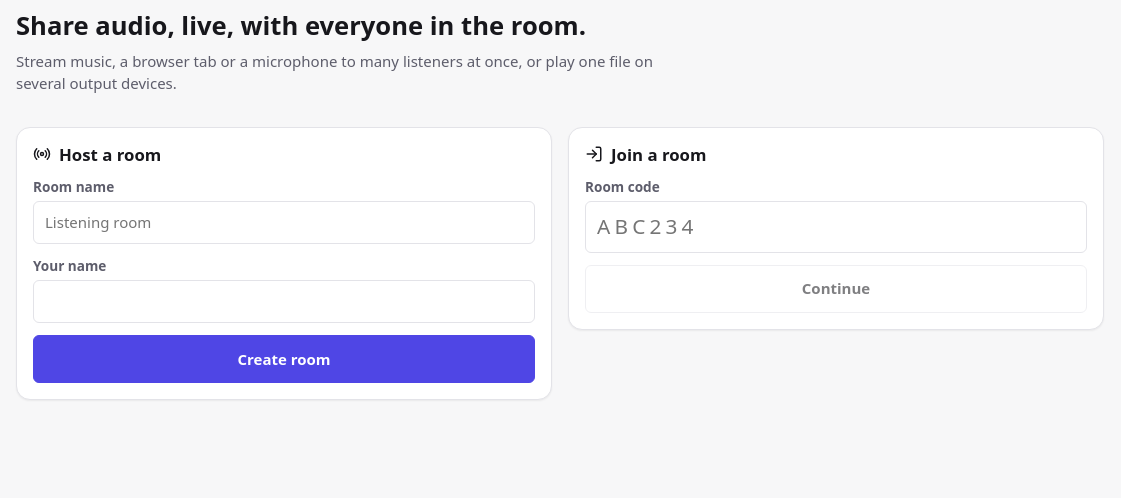
Test: HomePage › shows an error when the server is unreachable
Click the button "Create room" at (284, 359), box [33,335,535,383]
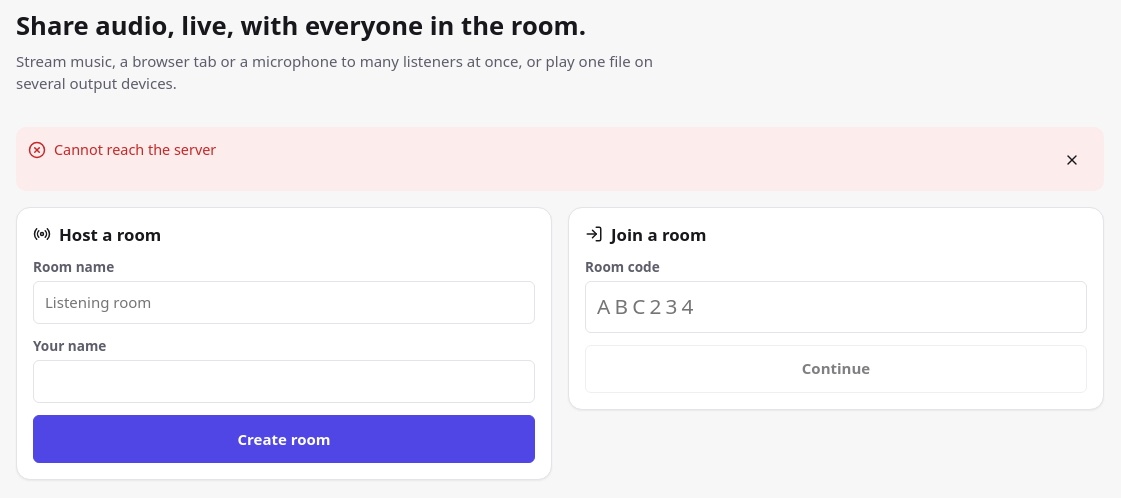
Expected: the message reads "Cannot reach the server", [54,140,216,159]
